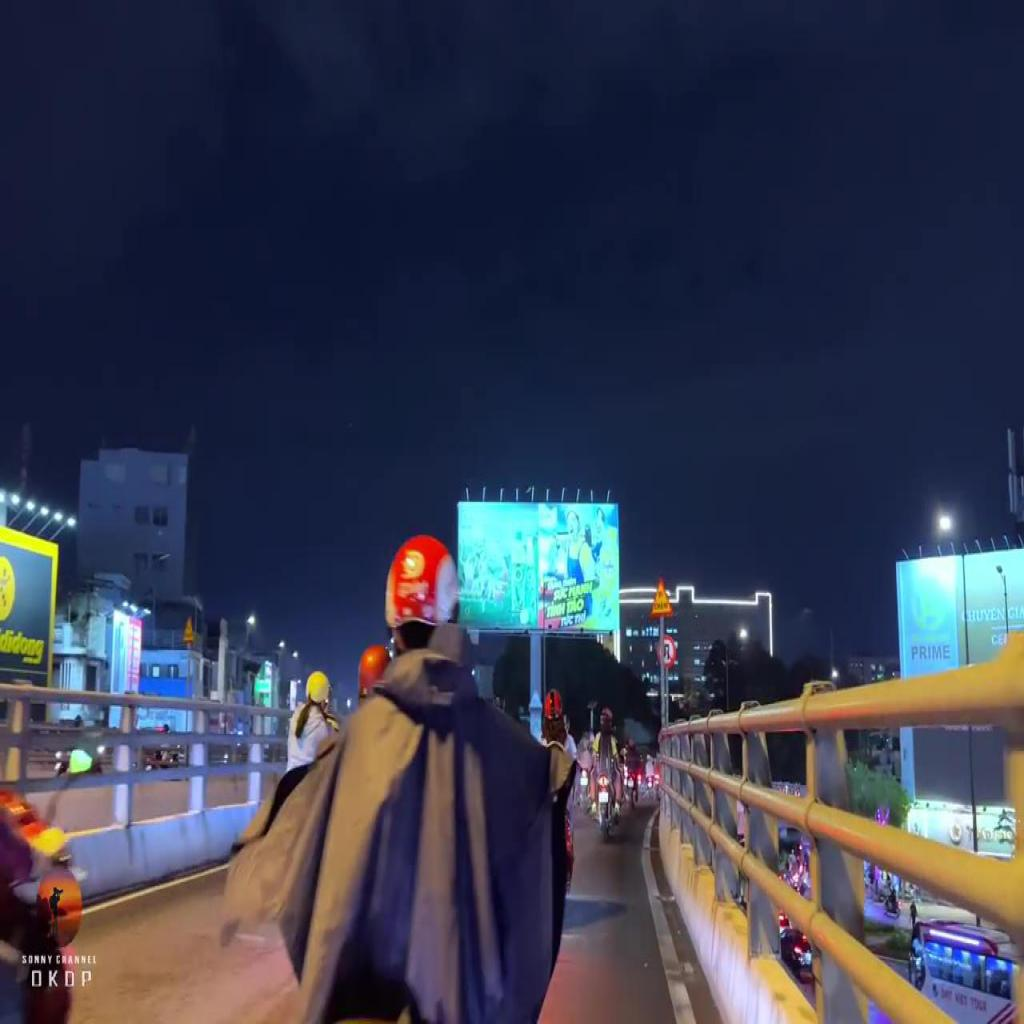cam_quay_dau_xe: (656, 636, 675, 667)
di_cham: (650, 576, 674, 616), (182, 616, 194, 641)
